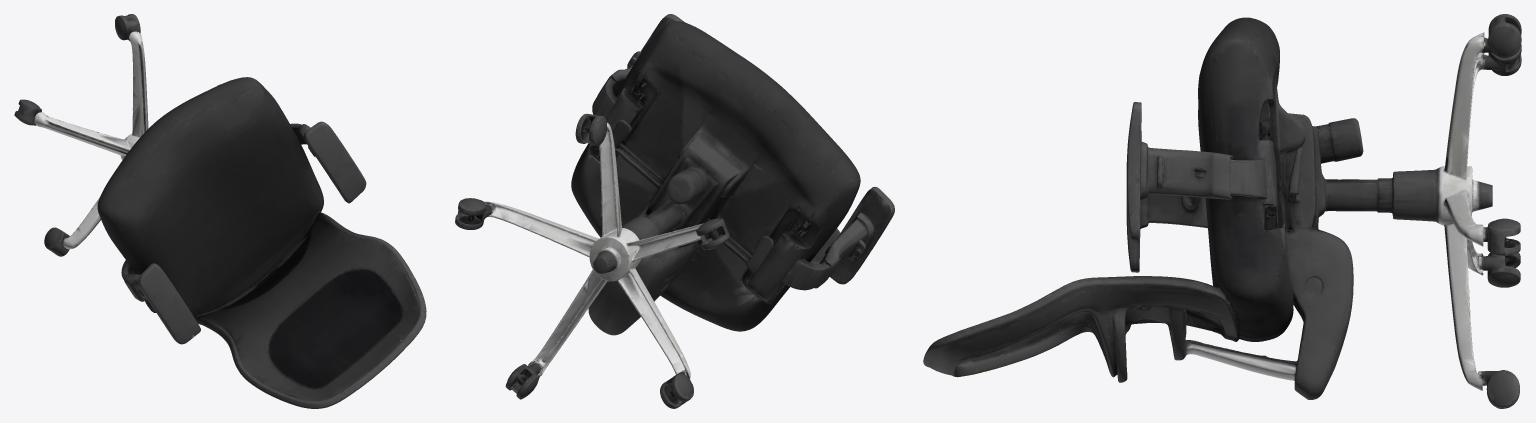
The model's file is final_2nd_floor_14.glb.
3 views of the same model, side by side, from view 1: azimuth 30°, elevation 25°; view 2: azimuth 150°, elevation 25°; view 3: azimuth 270°, elevation 25° (orthographic). The views are drawn at different scales.
Visible parts, largest first — view 1: Ramdhan.013; view 2: Ramdhan.013; view 3: Ramdhan.013.
Boxes of the visible parts, box(x1,y1,x2,y2) form: Ramdhan.013: box(14, 14, 426, 408); Ramdhan.013: box(455, 14, 894, 408); Ramdhan.013: box(923, 14, 1521, 408).
Size of the model in its own units: 0.0208 by 0.0211 by 0.0323.
1 material, 1 textured.
